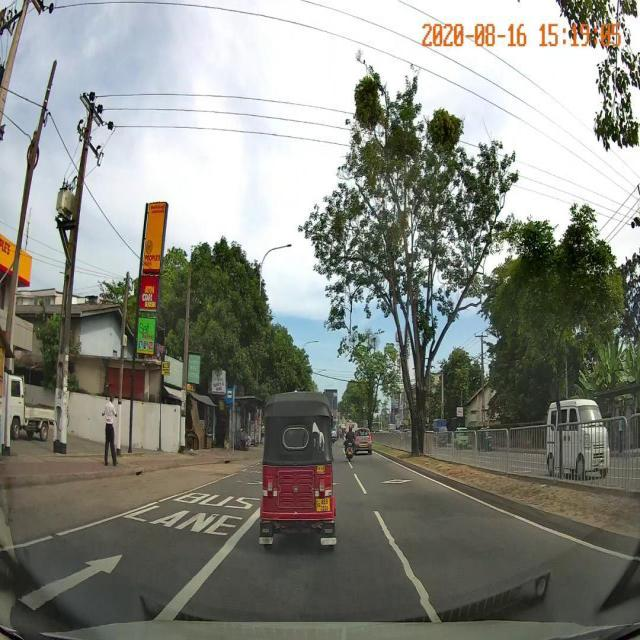BUS LANE: (120, 489, 261, 538)
Liniya 1: (384, 456, 633, 562), (148, 506, 261, 623), (371, 508, 444, 624), (56, 500, 161, 537), (158, 472, 241, 503), (0, 532, 59, 555), (351, 470, 371, 496)
Strelka vpered: (16, 552, 125, 613)
